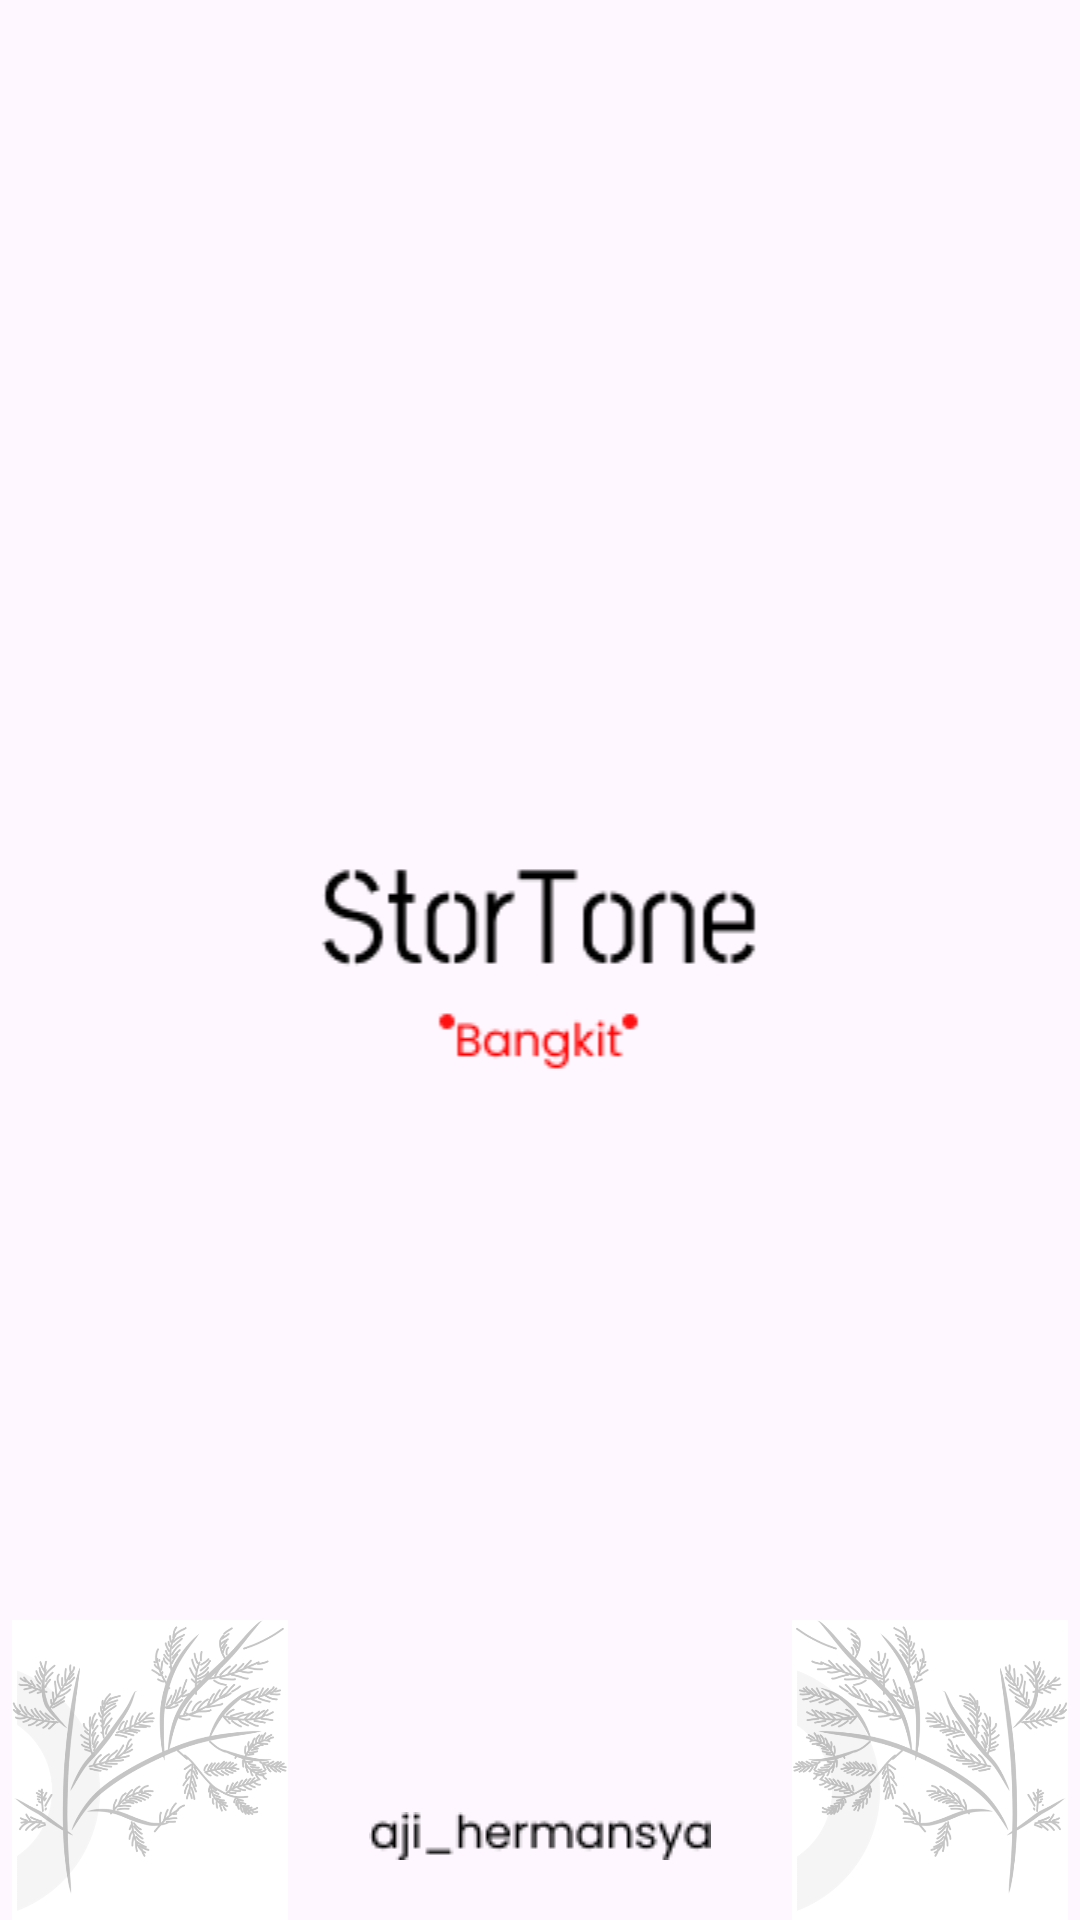

Screen size 1080w x 1920h. Icon name, then its center in pixels as [x,y]:
flower design: [150,1756]
flower design two: [930,1756]
